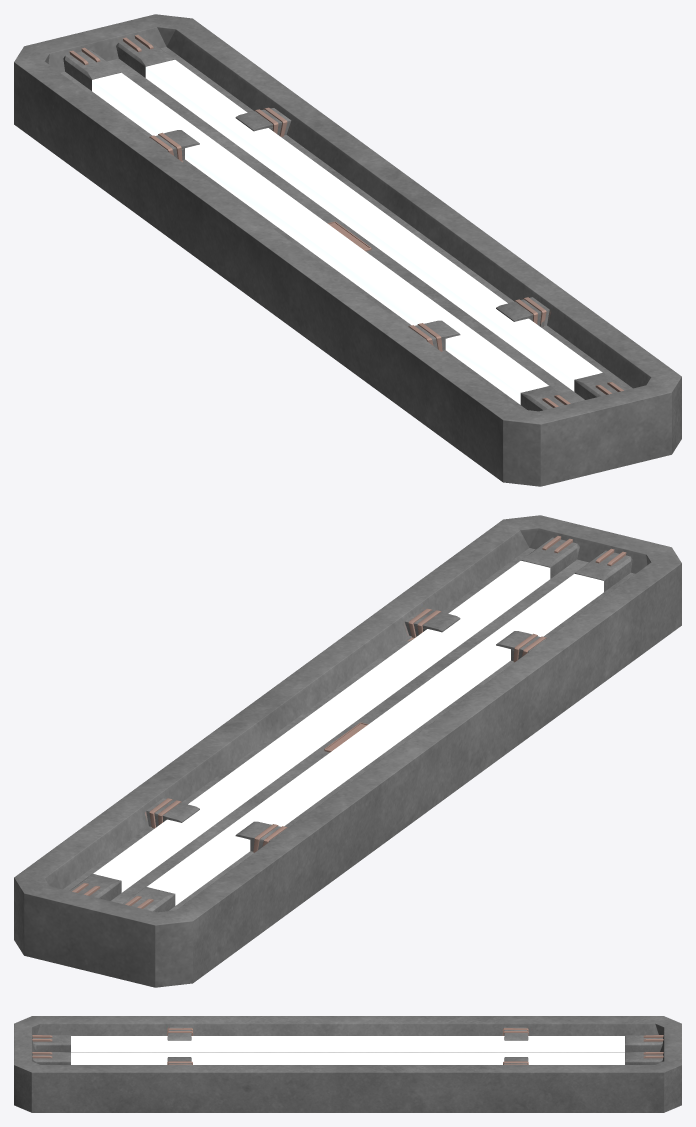
File: sci-fi_style_ceiling_light.glb
3 renders of one model, top to bottom at view 1: azimuth 30°, elevation 25°; view 2: azimuth 150°, elevation 25°; view 3: azimuth 270°, elevation 25°, orthographic. The views are drawn at different scales.
Parts seen in each view (by area): view 1: CeilingLight; view 2: CeilingLight; view 3: CeilingLight.
Part boxes in pixels (<box>): CeilingLight: <box>14,14,681,486</box>; CeilingLight: <box>14,515,681,987</box>; CeilingLight: <box>14,1016,681,1112</box>.
Size of the model in its own units: 0.3 by 0.1 by 1.5.
4 materials, 3 textured.
